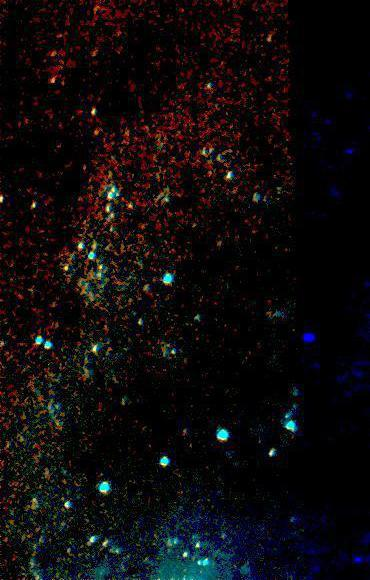star: (84, 120, 114, 150)
